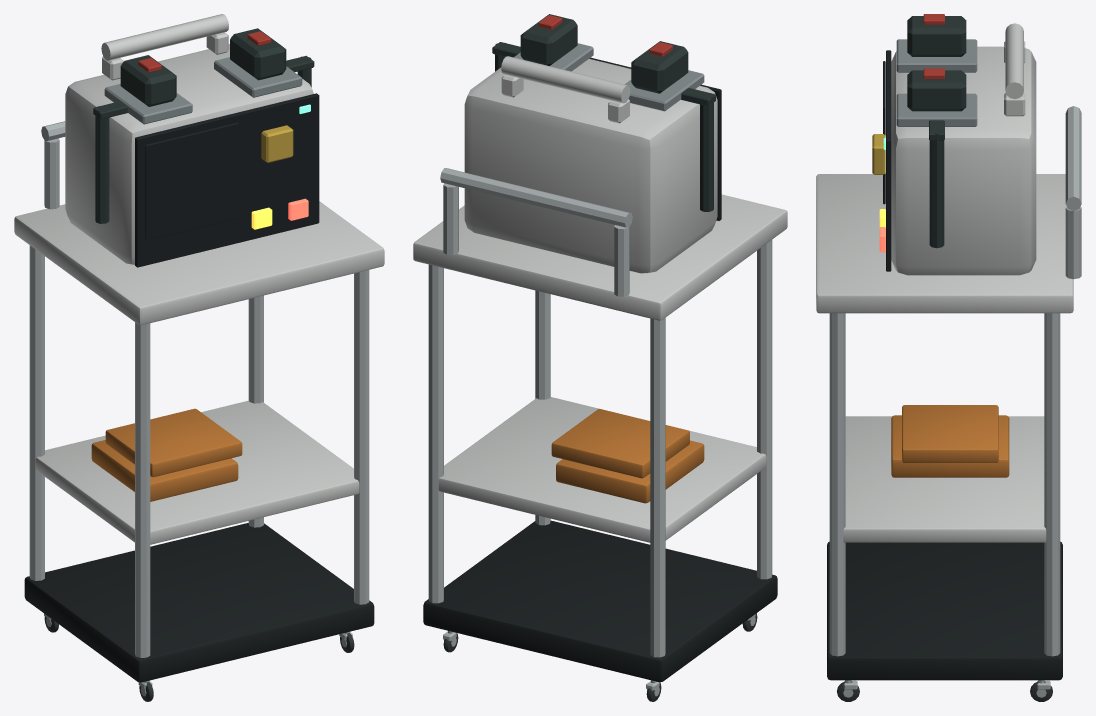
File: defibrillator.glb
The picture shows the model from 3 angles, left to right: view 1: azimuth 30°, elevation 25°; view 2: azimuth 150°, elevation 25°; view 3: azimuth 270°, elevation 25°; orthographic projection.
Visible parts, largest first — view 1: defibrillator; view 2: defibrillator; view 3: defibrillator.
Part boxes in pixels (<box>): defibrillator: <box>14,14,384,701</box>; defibrillator: <box>413,14,787,701</box>; defibrillator: <box>816,14,1081,701</box>.
Bounding box in the file's own units: 0.54 × 1.25 × 0.495.
